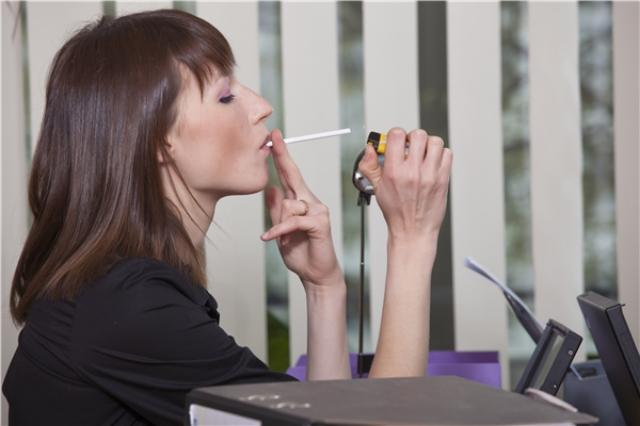Cigarette: (258, 122, 354, 146)
